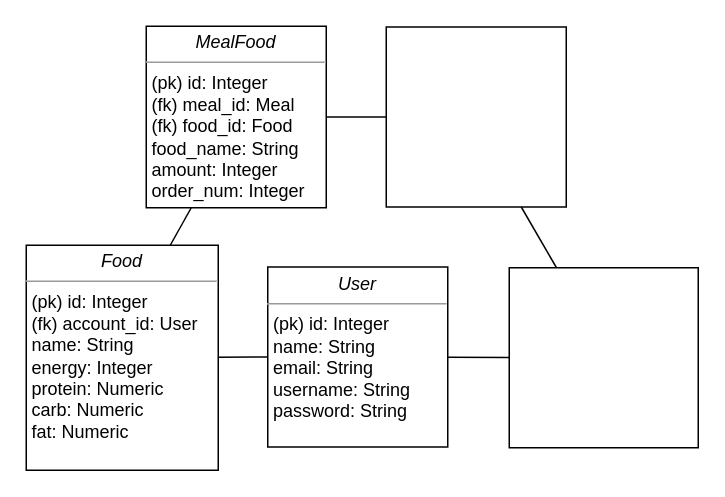
Some shapes in this 725 by 497 pixel diagram are drawn without their labels. The shapes that lost their labels are listed below. From the top down, each one's centre as x and y in pixels, then its label:
the point at 475,116: Meal (pk) id: Integer (fk) diet_id: Diet order_num: Integer
the point at 603,357: Diet (pk) id: Integer (fk) account_id: User name: String edited: Date
